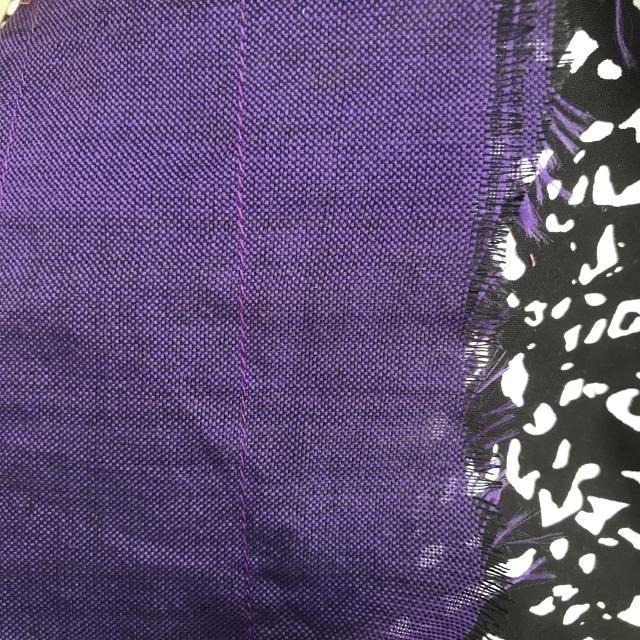good: (222, 132, 266, 336)
